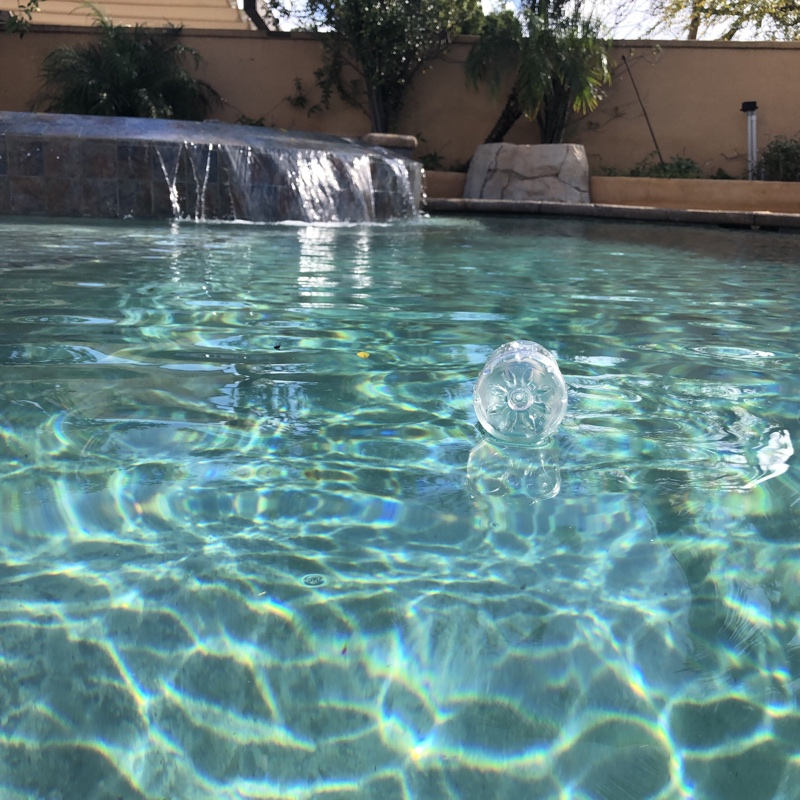Plastic Bottle: (469, 335, 574, 444)
